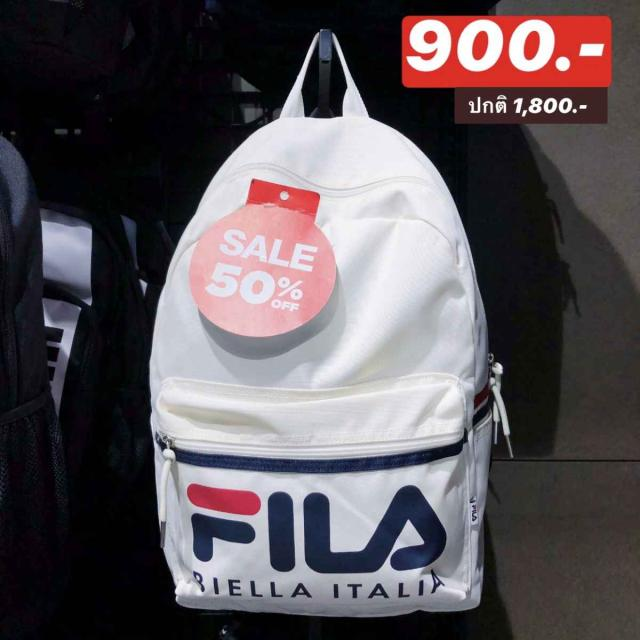Handbag: (147, 116, 498, 621)
